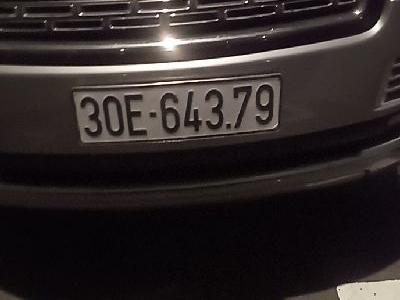car: (71, 75, 285, 146)
